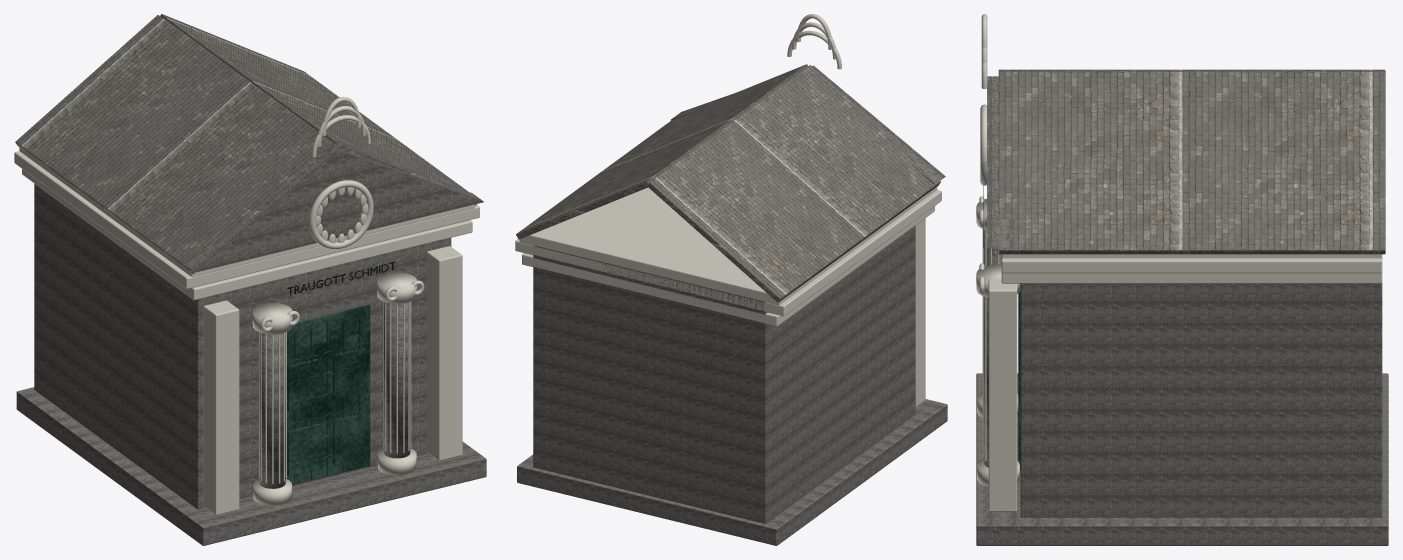
Rendered from schmidt-mausoleum.glb.
The picture shows the model from 3 angles, left to right: view 1: azimuth 30°, elevation 25°; view 2: azimuth 150°, elevation 25°; view 3: azimuth 270°, elevation 25°; orthographic projection. The views are drawn at different scales.
Visible parts, largest first — view 1: schmidt-mausoleum; view 2: schmidt-mausoleum; view 3: schmidt-mausoleum.
Boxes of the visible parts, x1,y1,x2,y2 form: schmidt-mausoleum: (14, 14, 486, 545); schmidt-mausoleum: (515, 14, 947, 545); schmidt-mausoleum: (976, 14, 1388, 545).
Bounding box in the file's own units: 5.9 × 7.91 × 6.5.
Materials: 5 (4 with a texture image).
